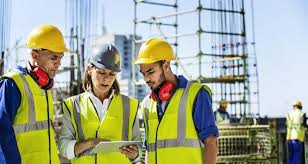Person_wearing_helmet: (23, 19, 80, 56), (130, 33, 180, 75), (80, 42, 123, 77)
